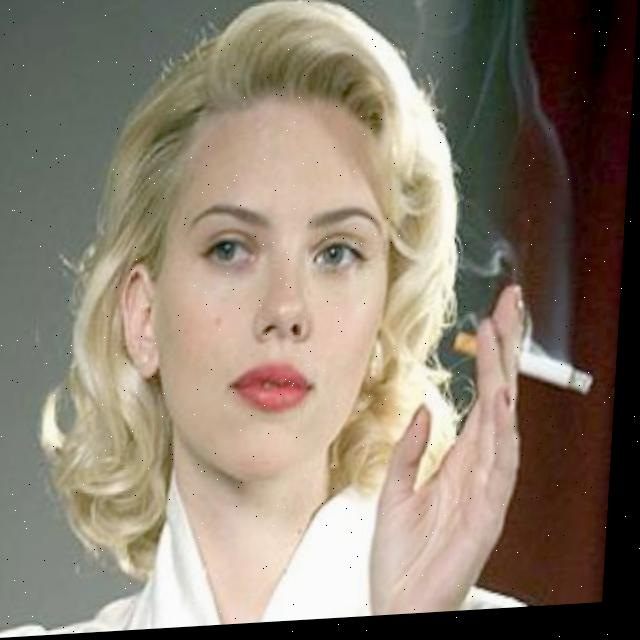cigarette: (456, 329, 603, 408)
